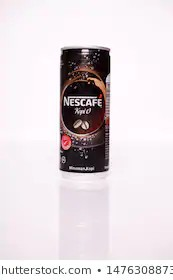nescafe-can: (56, 42, 117, 181)
